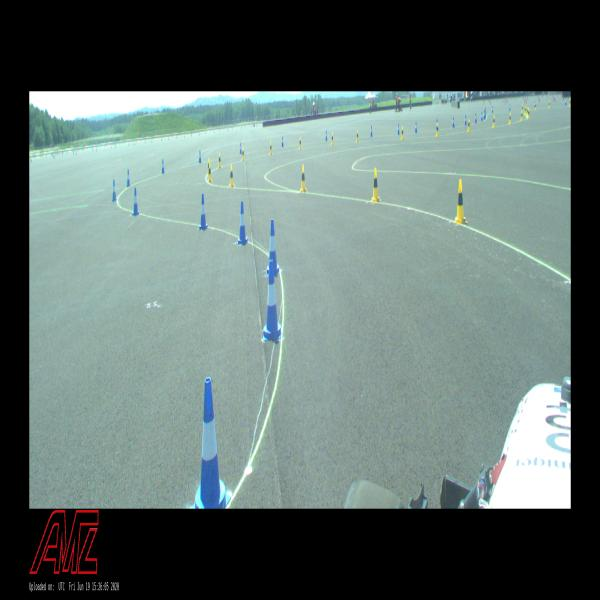blue_cone: (191, 377, 231, 509), (263, 260, 281, 340), (267, 218, 279, 276), (237, 201, 248, 244), (198, 194, 208, 231), (132, 188, 139, 216), (112, 180, 117, 202), (126, 169, 131, 187), (162, 158, 165, 174), (198, 151, 202, 163), (397, 123, 400, 135), (370, 125, 373, 137), (281, 136, 284, 147), (452, 117, 455, 127), (464, 115, 467, 125), (415, 121, 417, 133), (326, 130, 328, 141), (475, 114, 477, 124), (481, 112, 483, 121), (564, 98, 566, 105), (436, 118, 437, 130), (240, 143, 241, 154), (484, 111, 485, 119), (534, 101, 535, 108), (509, 104, 510, 110), (492, 106, 493, 112)
yellow_cone: (453, 180, 468, 224), (371, 168, 380, 202), (300, 164, 308, 192), (229, 164, 234, 188), (208, 162, 212, 182), (207, 157, 210, 175), (241, 147, 245, 160), (218, 153, 221, 168), (331, 132, 334, 146), (299, 136, 302, 150), (467, 118, 470, 132), (356, 130, 359, 143), (401, 126, 404, 139), (436, 123, 439, 136), (520, 110, 523, 121), (493, 115, 495, 128), (270, 142, 272, 154), (509, 113, 511, 124), (528, 108, 530, 118), (524, 105, 526, 114), (522, 104, 524, 113), (535, 102, 537, 110), (569, 99, 571, 106), (527, 106, 528, 116), (549, 100, 550, 108)
